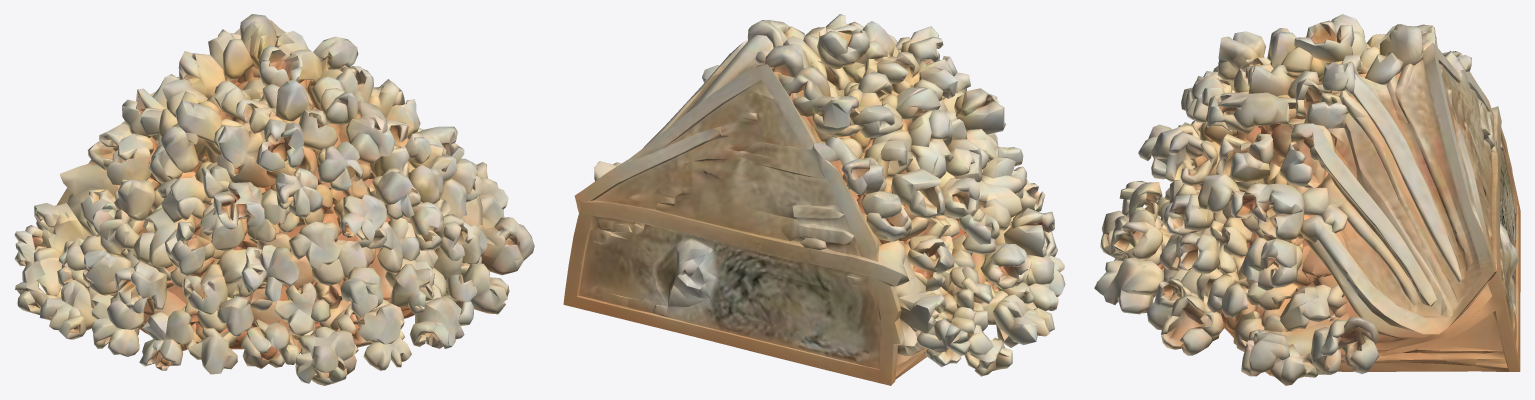
Rendered from popcorn_pile.glb.
3 views of the same model, side by side, from view 1: azimuth 30°, elevation 25°; view 2: azimuth 150°, elevation 25°; view 3: azimuth 270°, elevation 25° (orthographic). The views are drawn at different scales.
Visible parts, largest first — view 1: model; view 2: model; view 3: model.
Part boxes in pixels (x1,y1,x2,y2): model: (14, 14, 534, 385); model: (563, 14, 1065, 385); model: (1094, 14, 1520, 385).
Bounding box in the file's own units: 1.91 × 1.05 × 1.5.
Materials: 1 (1 with a texture image).
